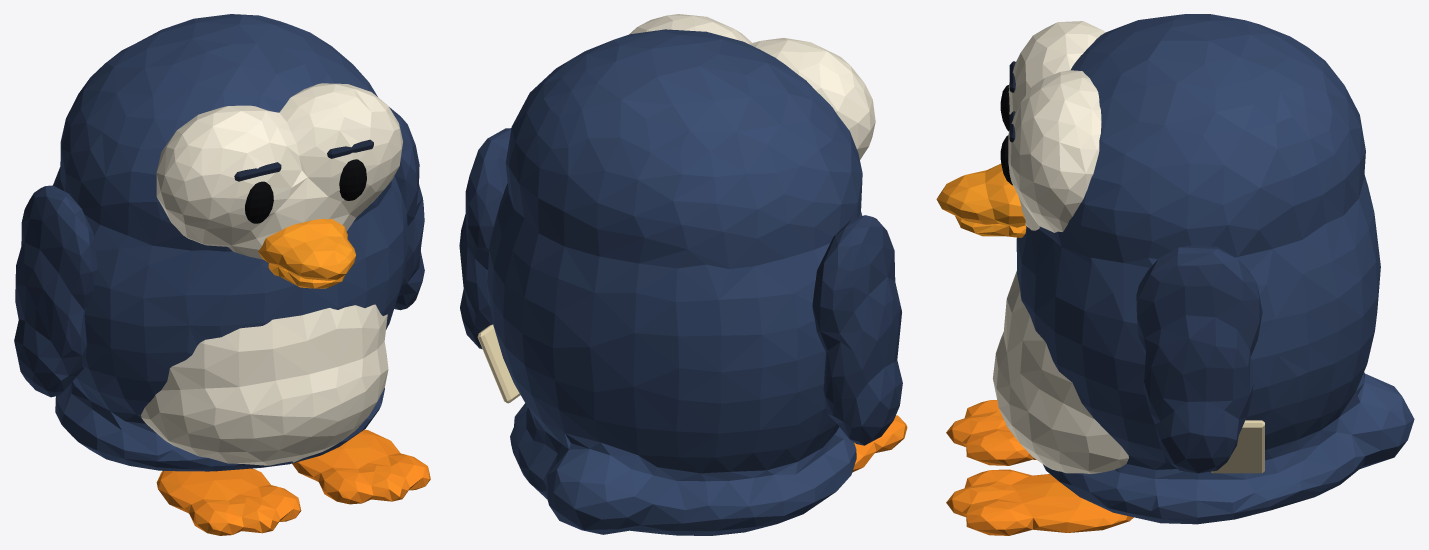
File: hugsy.glb
3 renders of one model, left to right at view 1: azimuth 30°, elevation 25°; view 2: azimuth 150°, elevation 25°; view 3: azimuth 270°, elevation 25°, orthographic. The views are drawn at different scales.
Parts seen in each view (by area): view 1: Hugsy_Body, Hugsy_Belly, Hugsy_Face, Hugsy_FlipperL, Hugsy_FootL, Hugsy_FootR, Hugsy_Beak, Hugsy_FlipperR, Hugsy_EyeL, Hugsy_EyeR, Hugsy_BeakLower; view 2: Hugsy_Body, Hugsy_FlipperL, Hugsy_Face, Hugsy_FlipperR, Hugsy_Tag, Hugsy_FootL; view 3: Hugsy_Body, Hugsy_FlipperR, Hugsy_Face, Hugsy_Belly, Hugsy_FootR, Hugsy_Beak, Hugsy_FootL, Hugsy_Tag, Hugsy_BeakLower.
Part boxes in pixels (x1,y1,x2,y2): Hugsy_Body: (53, 14, 408, 471); Hugsy_Belly: (141, 304, 388, 465); Hugsy_Face: (156, 83, 402, 259); Hugsy_FlipperL: (14, 185, 97, 397); Hugsy_FootL: (156, 468, 301, 535); Hugsy_FootR: (292, 429, 430, 504); Hugsy_Beak: (258, 219, 355, 280); Hugsy_FlipperR: (389, 107, 424, 310); Hugsy_EyeL: (245, 181, 273, 223); Hugsy_EyeR: (339, 159, 366, 200); Hugsy_BeakLower: (268, 263, 344, 288); Hugsy_Body: (487, 29, 862, 535); Hugsy_FlipperL: (812, 215, 902, 445); Hugsy_Face: (629, 14, 875, 159); Hugsy_FlipperR: (459, 128, 511, 348); Hugsy_Tag: (477, 324, 520, 403); Hugsy_FootL: (852, 415, 907, 472); Hugsy_Body: (1016, 14, 1414, 524); Hugsy_FlipperR: (1136, 245, 1262, 473); Hugsy_Face: (1008, 21, 1104, 232); Hugsy_Belly: (992, 271, 1128, 473); Hugsy_FootR: (946, 469, 1133, 535); Hugsy_Beak: (936, 163, 1025, 227); Hugsy_FootL: (946, 400, 1036, 465); Hugsy_Tag: (1211, 420, 1264, 473); Hugsy_BeakLower: (955, 216, 1026, 237).
Bounding box in the file's own units: 1.28 × 1.27 × 1.21.
